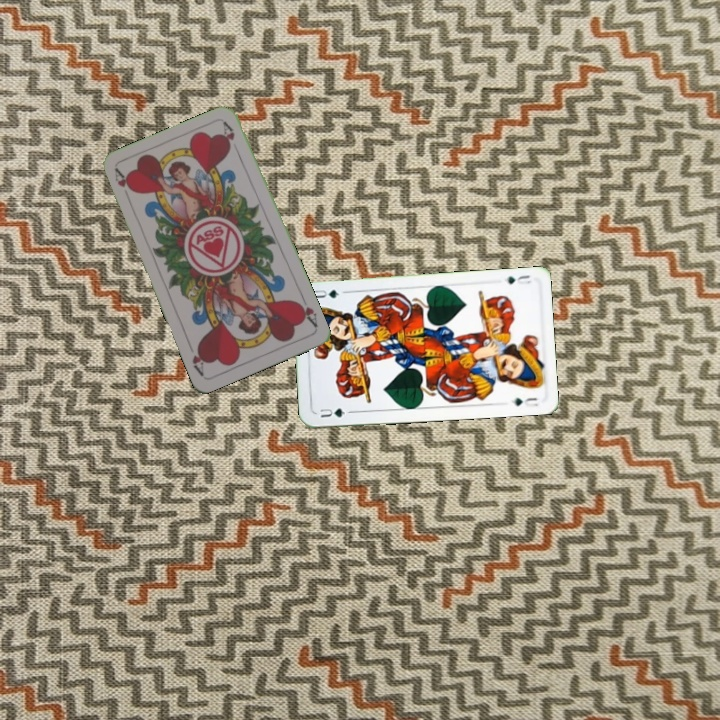GU: (316, 404, 354, 420), (502, 271, 533, 287)
HA: (292, 292, 320, 330), (110, 165, 136, 204)
